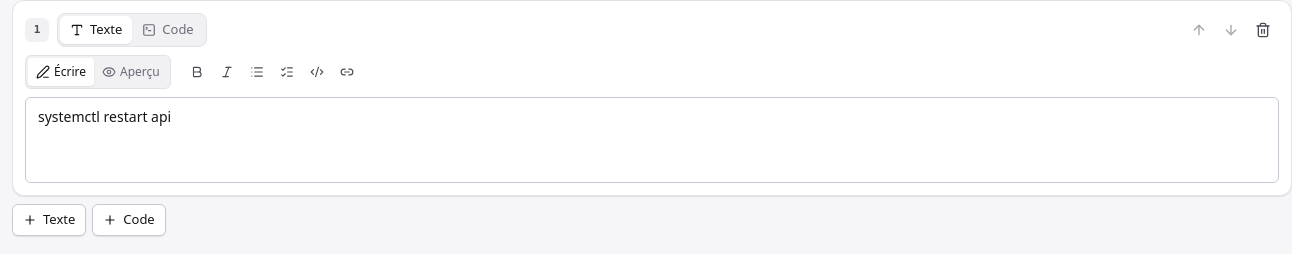
Scenario: EditeurBlocs › bascule un bloc de Texte à Code
This screenshot has width=1292, height=254.
Click the radio button labelled "Code".
click(168, 30)  # box 132,16 -> 204,44
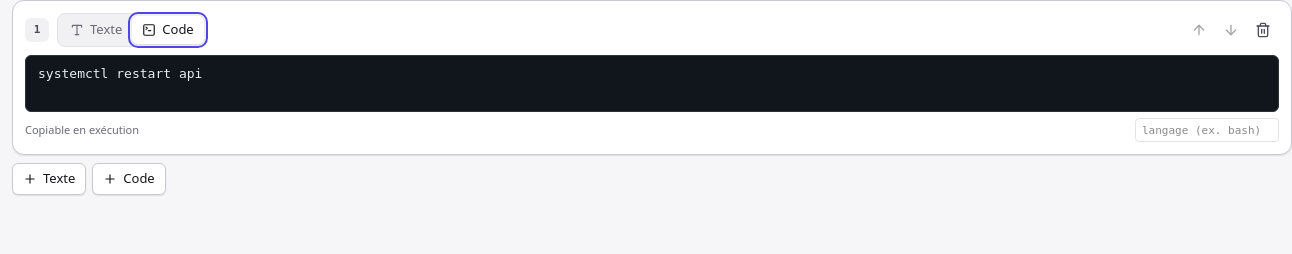
Expected: the text box named "Instructions, bloc 1 (code)" is shown, 25,55 -> 1279,112
